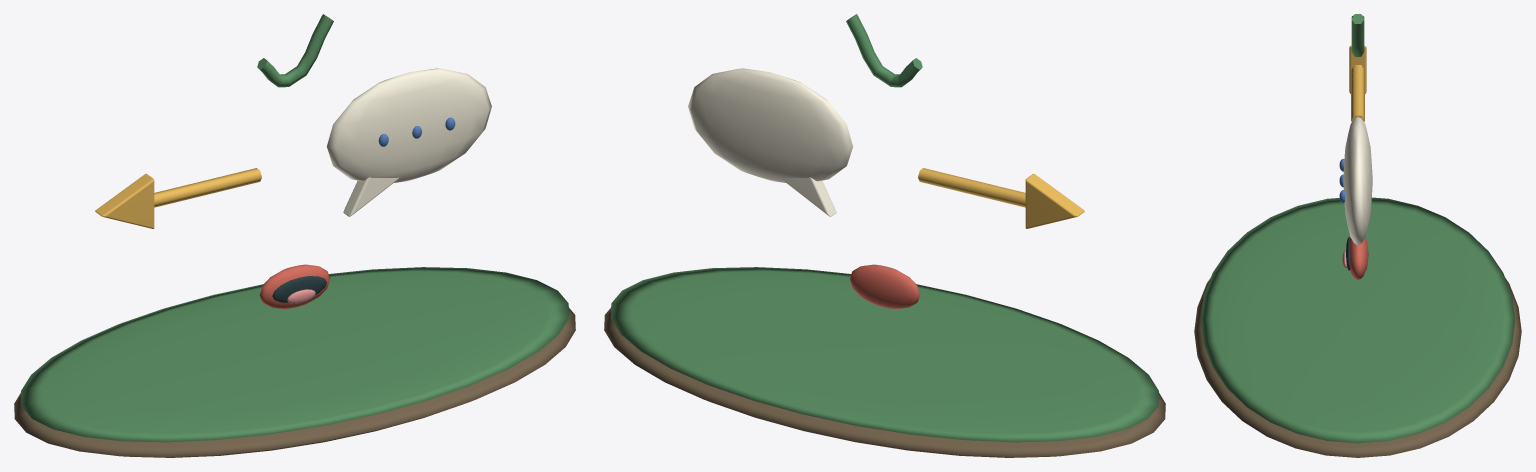
The model's file is complete-first-return-an-answer.glb.
The picture shows the model from 3 angles, left to right: view 1: azimuth 30°, elevation 25°; view 2: azimuth 150°, elevation 25°; view 3: azimuth 270°, elevation 25°; orthographic projection. The views are drawn at different scales.
Visible parts, largest first — view 1: complete-first-return-an-answer_surface_01, complete-first-return-an-answer_surface_03, complete-first-return-an-answer_surface_00, complete-first-return-an-answer_surface_02, complete-first-return-an-answer_surface_05, complete-first-return-an-answer_surface_06; view 2: complete-first-return-an-answer_surface_01, complete-first-return-an-answer_surface_03, complete-first-return-an-answer_surface_00, complete-first-return-an-answer_surface_02, complete-first-return-an-answer_surface_05; view 3: complete-first-return-an-answer_surface_01, complete-first-return-an-answer_surface_00, complete-first-return-an-answer_surface_03, complete-first-return-an-answer_surface_02, complete-first-return-an-answer_surface_05.
Part boxes in pixels (box(x1,y1,x2,y2)): complete-first-return-an-answer_surface_01: box(21, 14, 568, 442); complete-first-return-an-answer_surface_03: box(326, 68, 491, 216); complete-first-return-an-answer_surface_00: box(14, 308, 575, 457); complete-first-return-an-answer_surface_02: box(95, 168, 261, 228); complete-first-return-an-answer_surface_05: box(259, 264, 330, 308); complete-first-return-an-answer_surface_06: box(272, 276, 326, 302); complete-first-return-an-answer_surface_01: box(611, 14, 1158, 442); complete-first-return-an-answer_surface_03: box(688, 68, 853, 216); complete-first-return-an-answer_surface_00: box(604, 308, 1165, 457); complete-first-return-an-answer_surface_02: box(918, 168, 1084, 228); complete-first-return-an-answer_surface_05: box(849, 264, 920, 308); complete-first-return-an-answer_surface_01: box(1201, 14, 1514, 443); complete-first-return-an-answer_surface_00: box(1194, 278, 1521, 457); complete-first-return-an-answer_surface_03: box(1343, 116, 1372, 244); complete-first-return-an-answer_surface_02: box(1349, 45, 1366, 121); complete-first-return-an-answer_surface_05: box(1349, 237, 1368, 279).
Bounding box in the file's own units: 4.56 × 2.92 × 2.5.
